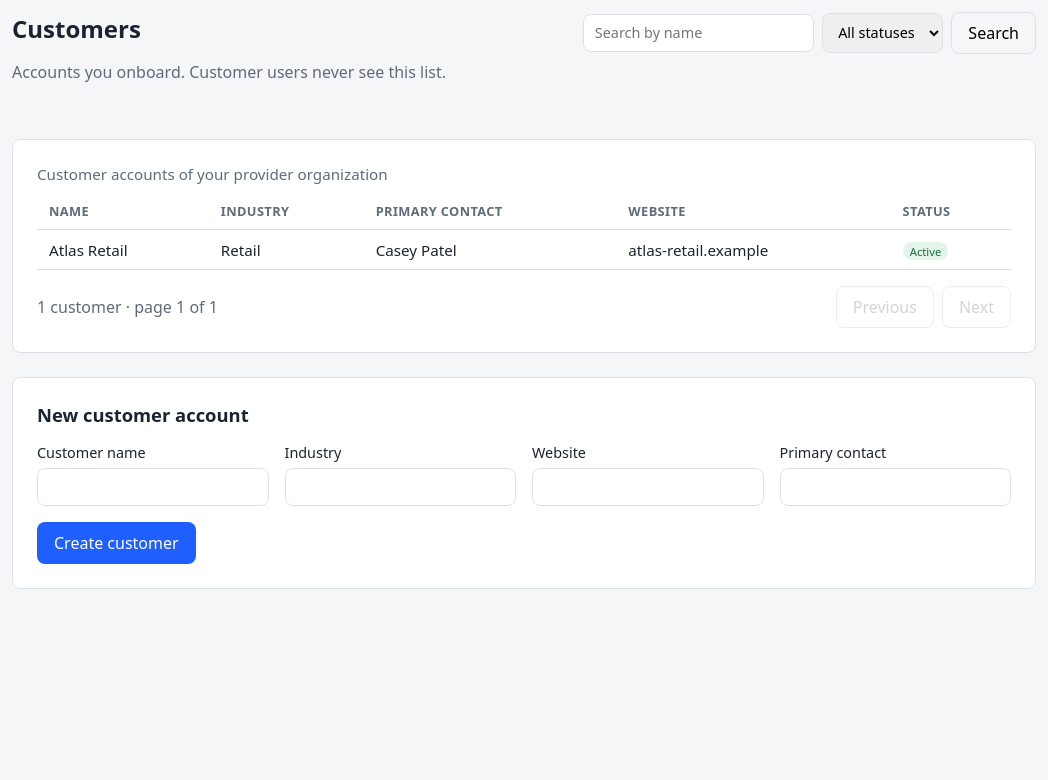
Test case: CustomersPage › validates the form client-side before calling the API
Check: the text "Atlas Retail" is shown, box 37,230 -> 209,270
Step 1. Click the button "Create customer" → coordinates (116, 543), box 37,522 -> 196,564
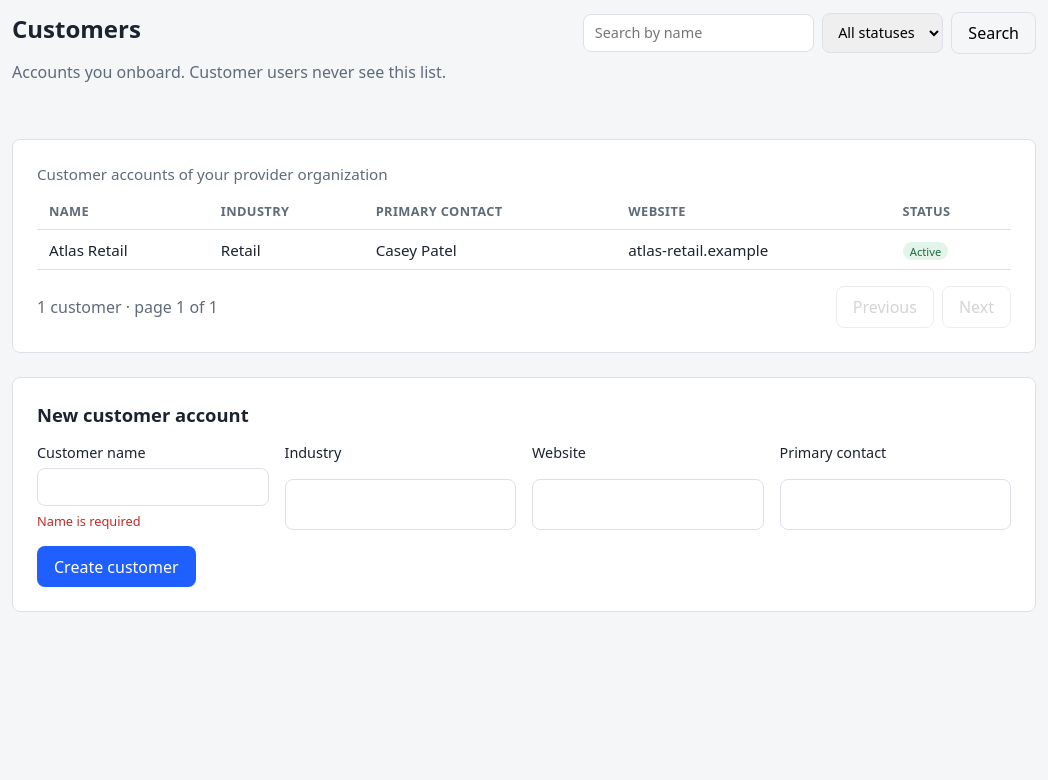
Check: the text "Name is required" is shown, box 37,512 -> 141,530
